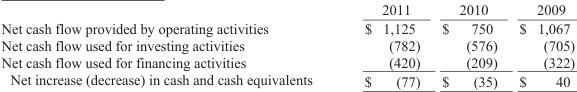table: (0, 1, 574, 88)
table column: (0, 1, 337, 88), (337, 1, 430, 88), (430, 1, 507, 88), (507, 1, 574, 88)
table column header: (0, 1, 574, 18)
table row: (0, 18, 574, 36), (0, 70, 574, 88), (0, 1, 574, 18), (0, 36, 574, 53), (0, 53, 574, 70)
